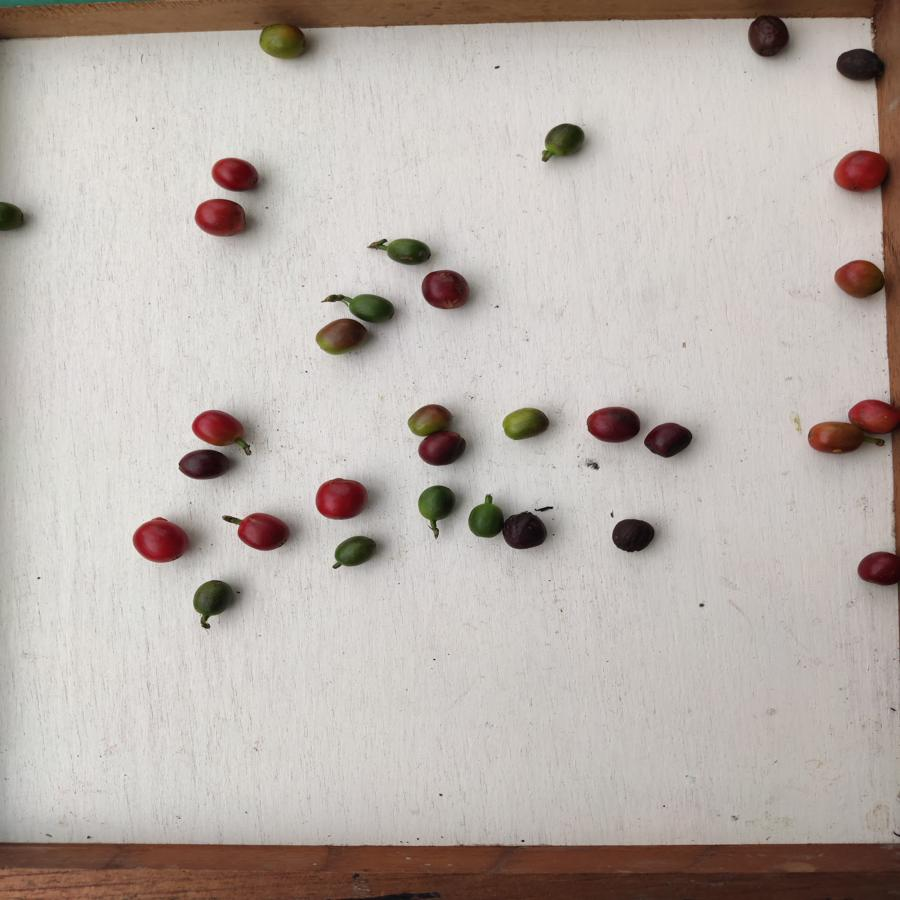Inmaduro: (190, 578, 234, 623), (376, 233, 432, 267), (540, 120, 586, 158), (415, 484, 458, 524), (331, 531, 376, 569), (345, 291, 396, 324), (465, 498, 500, 546), (1, 197, 28, 237)
Maduro: (131, 517, 193, 565), (829, 257, 889, 304), (831, 149, 892, 193), (232, 511, 295, 552), (315, 477, 368, 523), (189, 407, 249, 447), (190, 197, 250, 235), (208, 156, 262, 195), (848, 395, 900, 435)
Pinton: (312, 316, 374, 359), (803, 419, 867, 458), (250, 22, 315, 60), (499, 406, 551, 439), (404, 403, 453, 431)
Sobremaduro: (581, 405, 644, 443), (418, 269, 472, 313), (641, 420, 694, 463), (415, 429, 467, 469), (835, 45, 885, 86), (502, 510, 550, 552), (177, 449, 233, 484), (745, 15, 790, 56), (608, 516, 658, 552), (855, 551, 900, 589)
